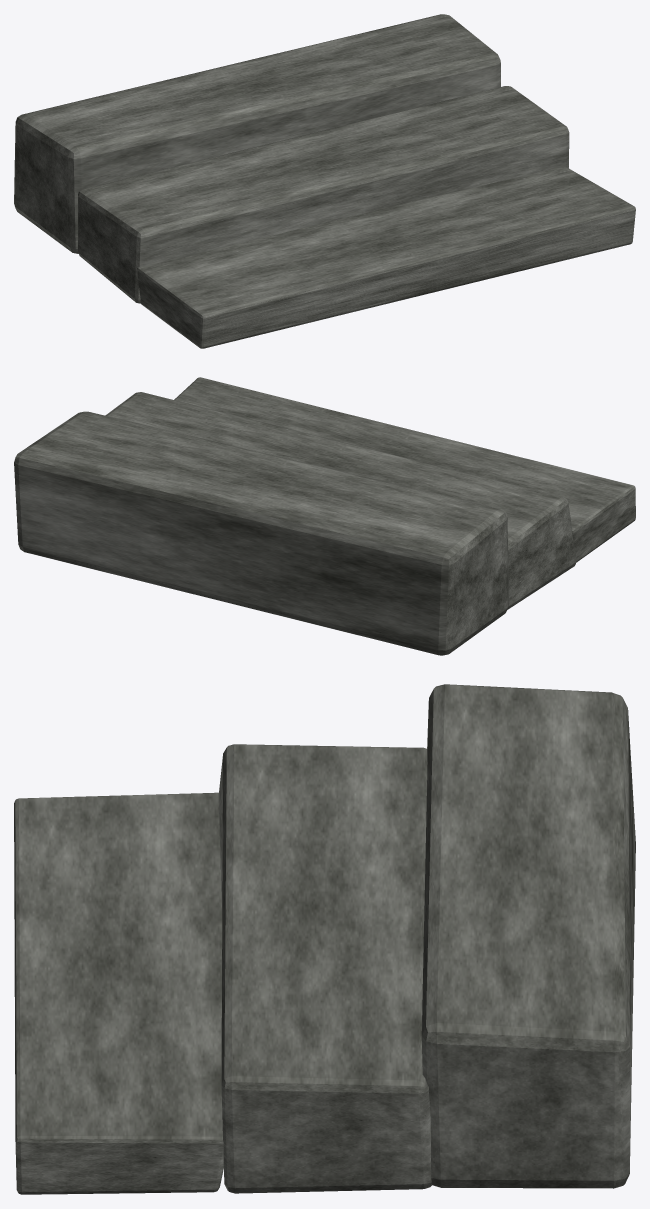
Rendered from 05_Stair_Three_Treads.glb.
3 renders of one model, top to bottom at view 1: azimuth 30°, elevation 25°; view 2: azimuth 150°, elevation 25°; view 3: azimuth 270°, elevation 25°, orthographic. The views are drawn at different scales.
Parts seen in each view (by area): view 1: 05_Stair_Three_Treads; view 2: 05_Stair_Three_Treads; view 3: 05_Stair_Three_Treads.
Part boxes in pixels (<box>): 05_Stair_Three_Treads: <box>14,14,635,348</box>; 05_Stair_Three_Treads: <box>14,377,635,655</box>; 05_Stair_Three_Treads: <box>14,684,635,1194</box>.
Size of the model in its own units: 2.43 by 0.5611 by 1.83.
1 material, 1 textured.
